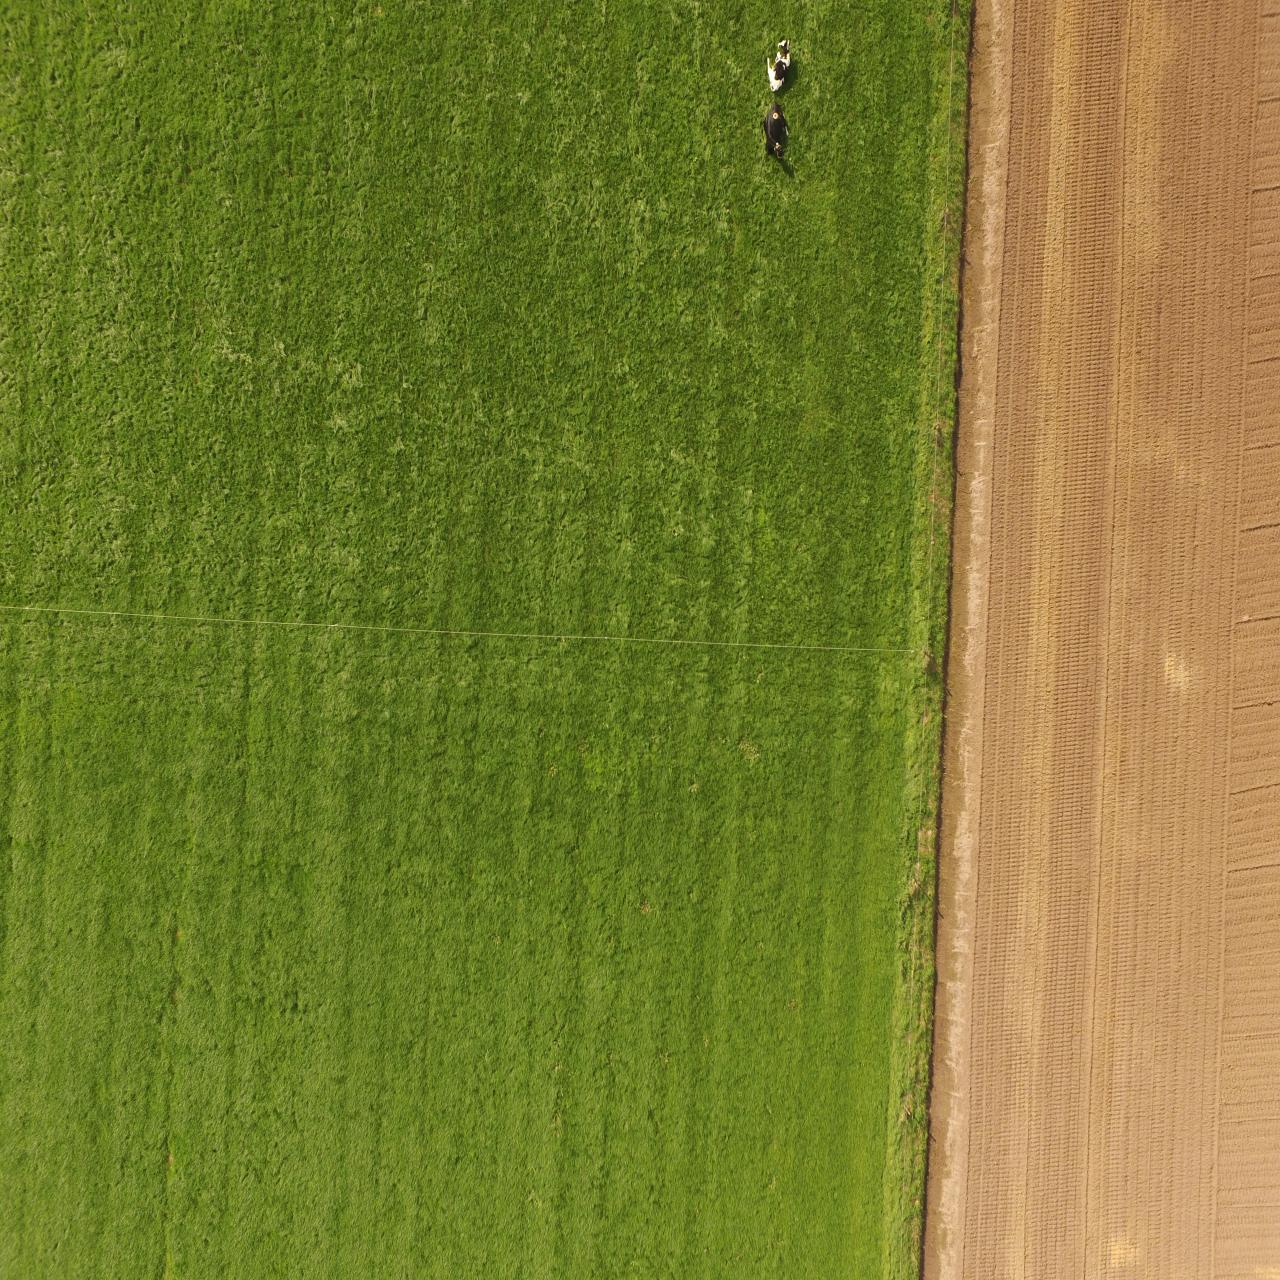cow: (762, 98, 790, 163), (765, 35, 794, 94)
